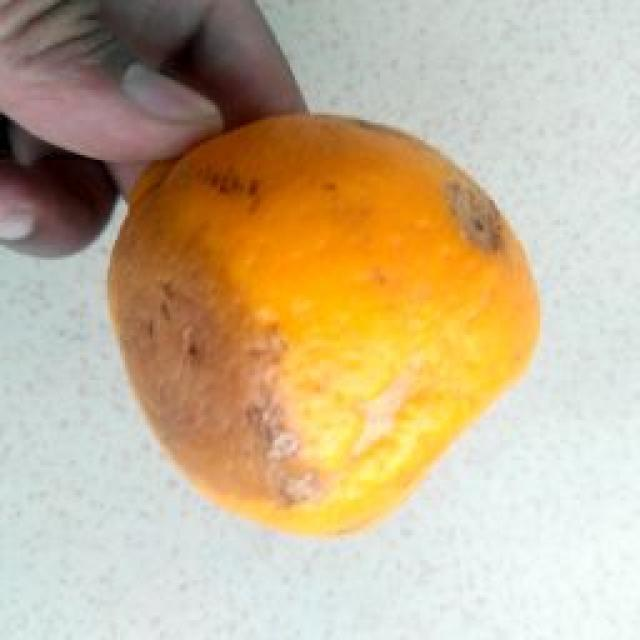Bad_Orange: (110, 115, 539, 534)
